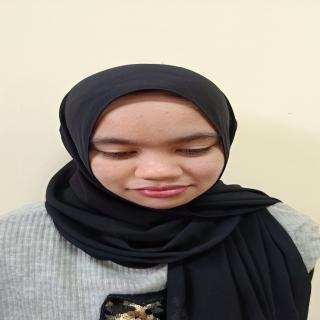Sedih: (75, 96, 250, 212)
